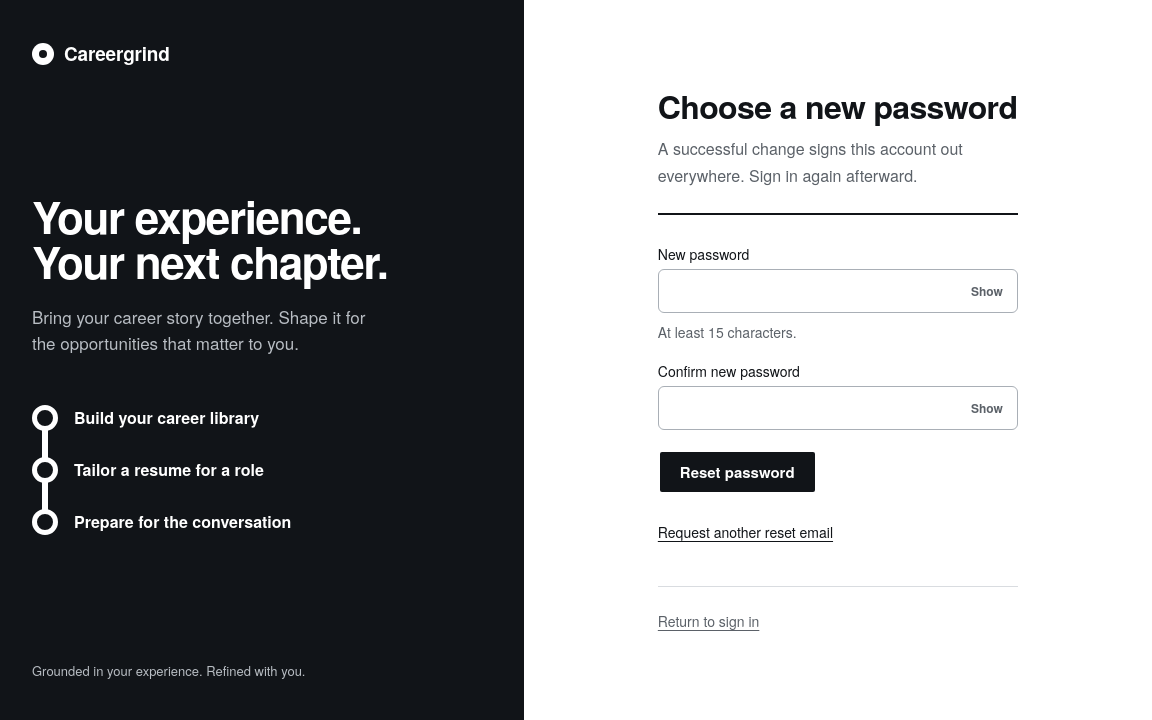
Scenario: clears reset fragments before bootstrap and preserves retry after an invalid link
In the password field labelled "New password": (838,291) [658, 269, 1018, 313], type "a quiet orchard after rain"
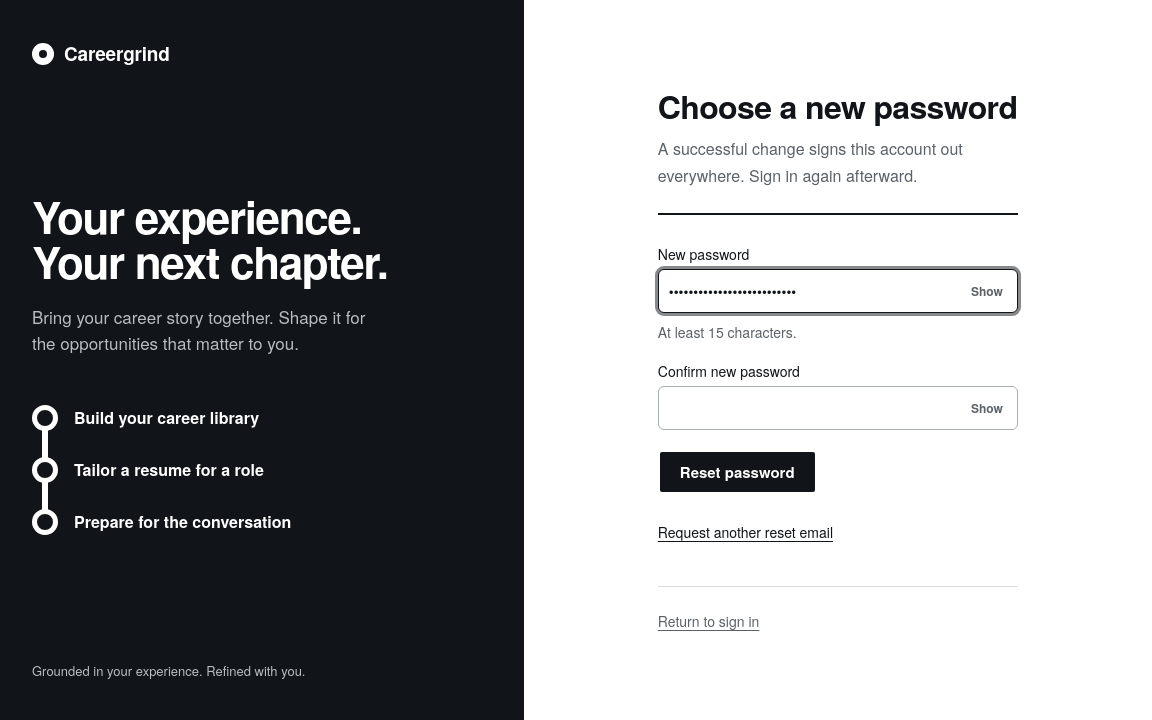
In the password field labelled "Confirm new password": (838,408) [658, 386, 1018, 430], type "a quiet orchard after rain"
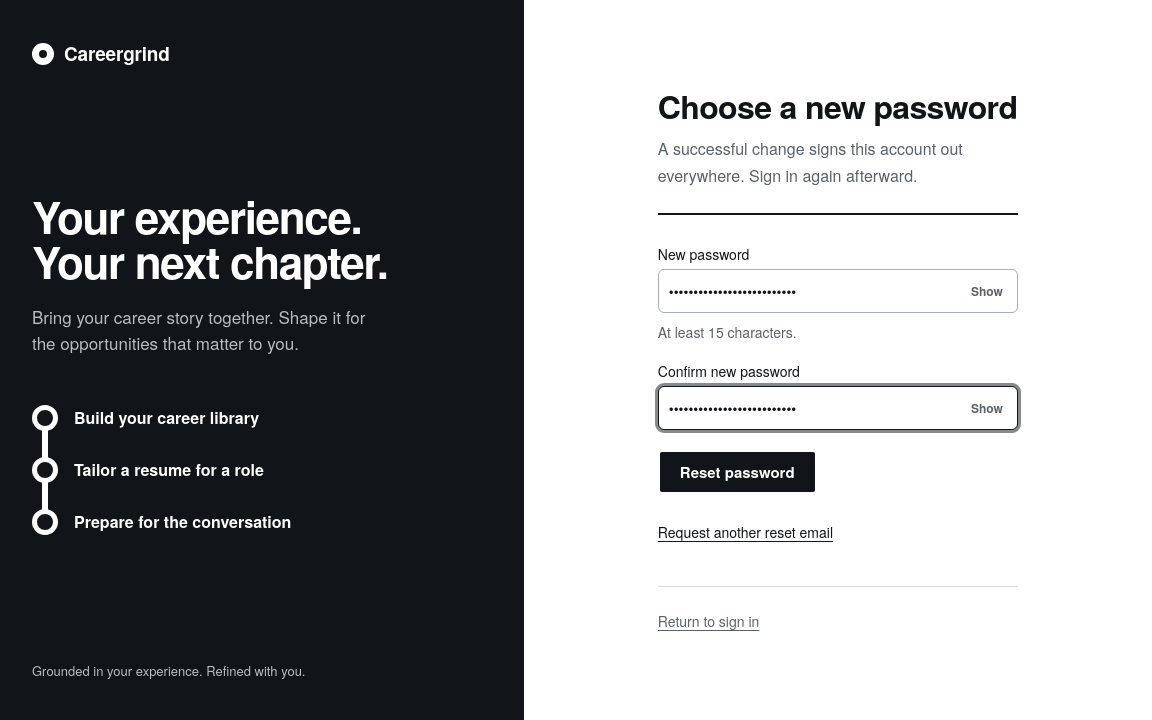
Click the button "Reset password": (737,472) [658, 450, 817, 494]
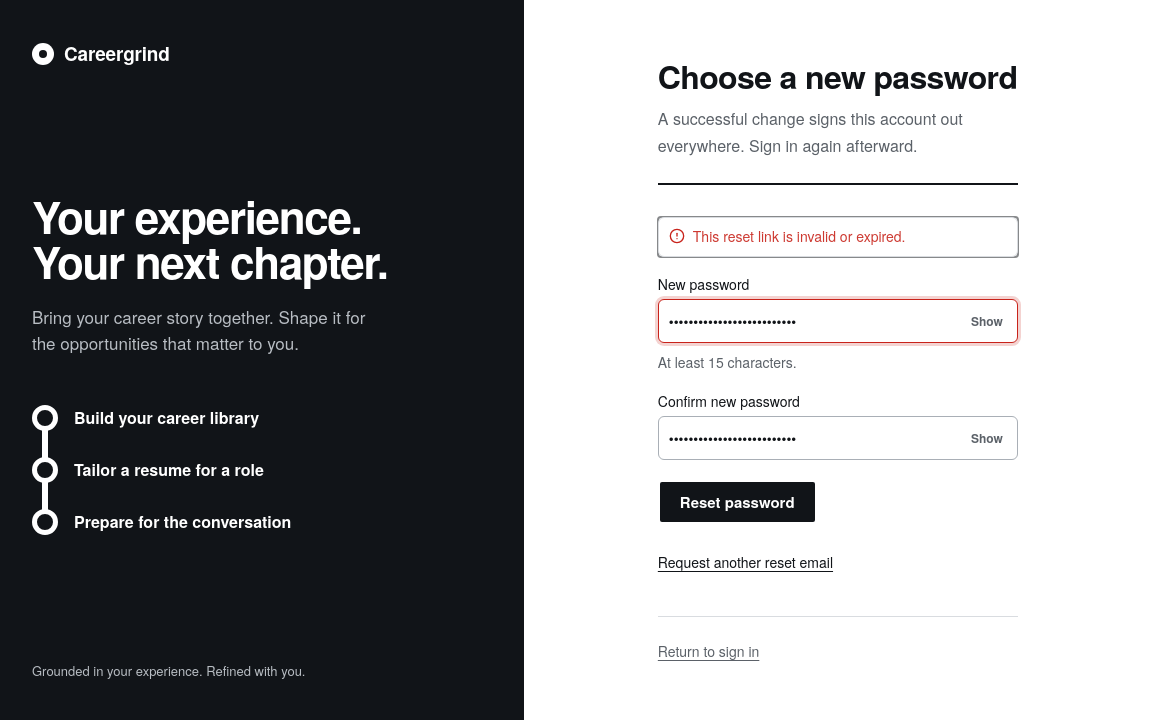
Check: the message shows "invalid or expired", box [693, 226, 906, 246]
